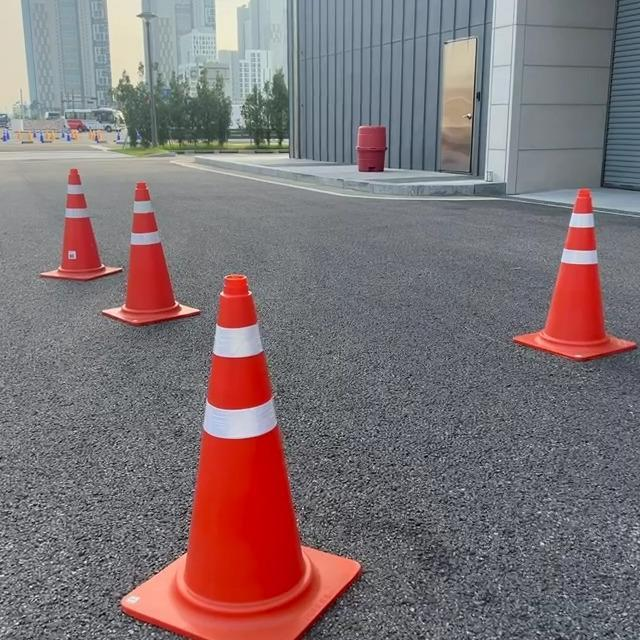fallen_object: (129, 259, 334, 608), (504, 181, 640, 431), (35, 153, 157, 317), (100, 177, 185, 339)
